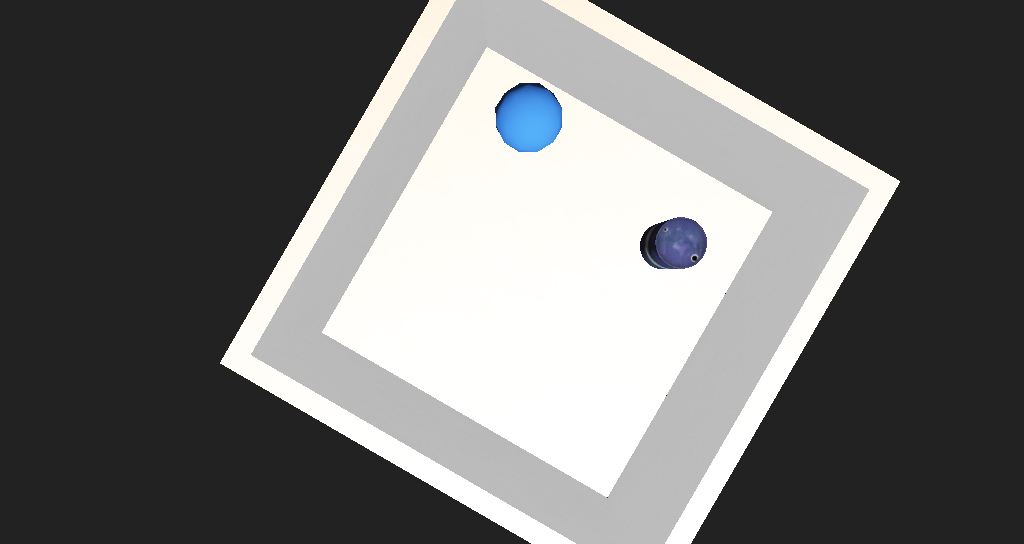cone: (559, 310, 613, 348)
sphere: (589, 188, 650, 231)
